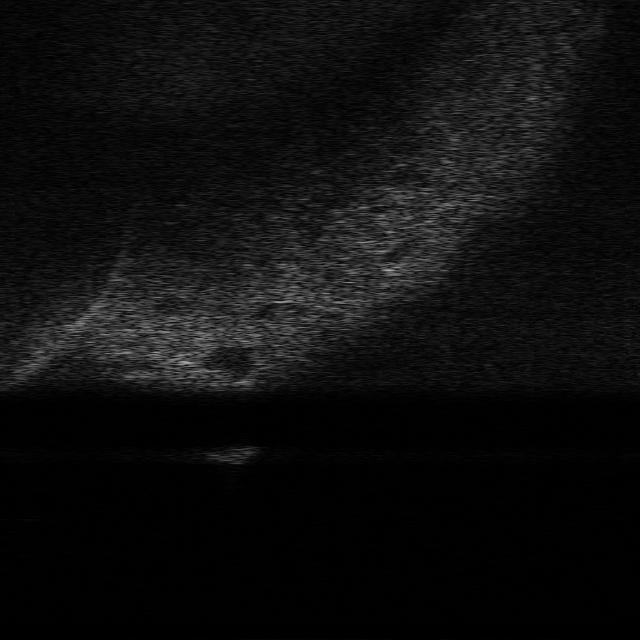cube: (210, 444, 252, 464)
